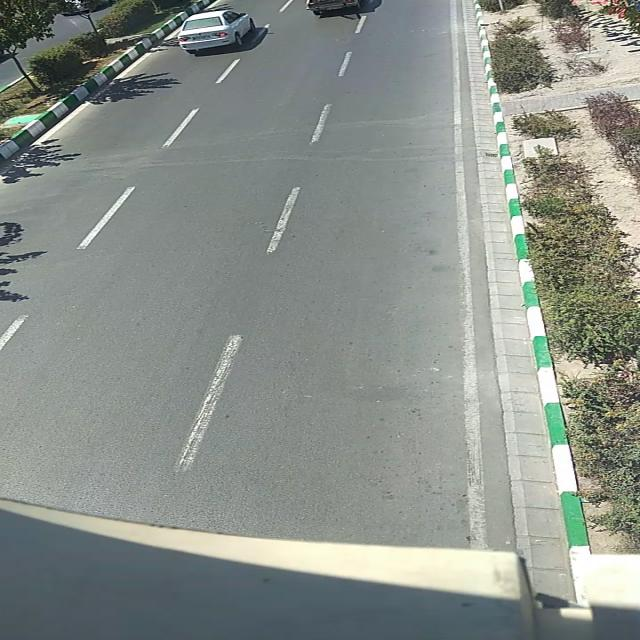car: (177, 11, 257, 55)
